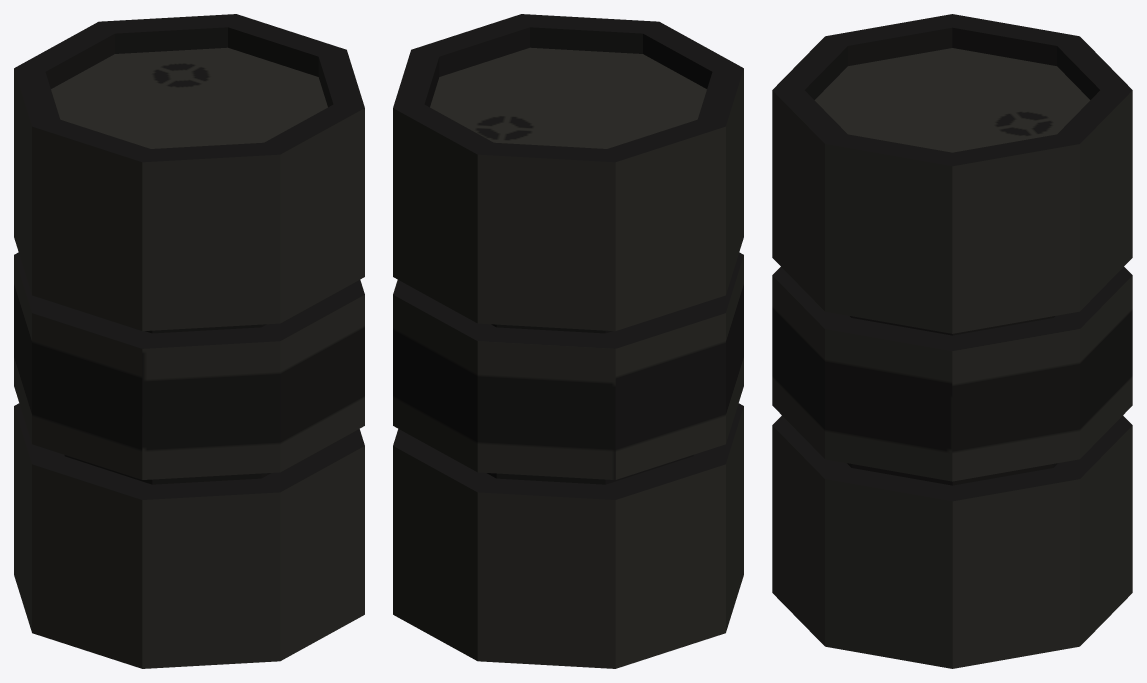
The model's file is barrel.obj.
3 views of the same model, side by side, from view 1: azimuth 30°, elevation 25°; view 2: azimuth 150°, elevation 25°; view 3: azimuth 270°, elevation 25° (orthographic).
Visible parts, largest first — view 1: Cylinder; view 2: Cylinder; view 3: Cylinder.
Boxes of the visible parts, <box> form: Cylinder: <box>14,14,364,668</box>; Cylinder: <box>393,14,743,668</box>; Cylinder: <box>772,14,1132,668</box>.
Bounding box in the file's own units: 1.3 × 2 × 1.3.
Materials: 1 (1 with a texture image).
